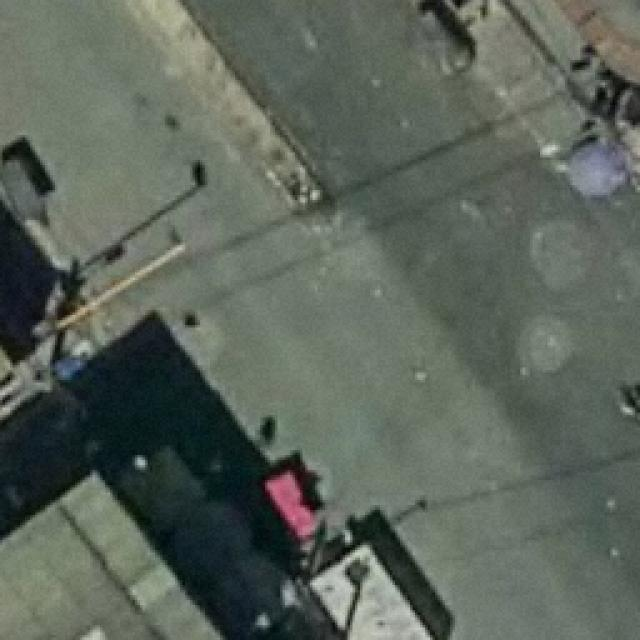vendedor_ambulante: (562, 134, 635, 204)
